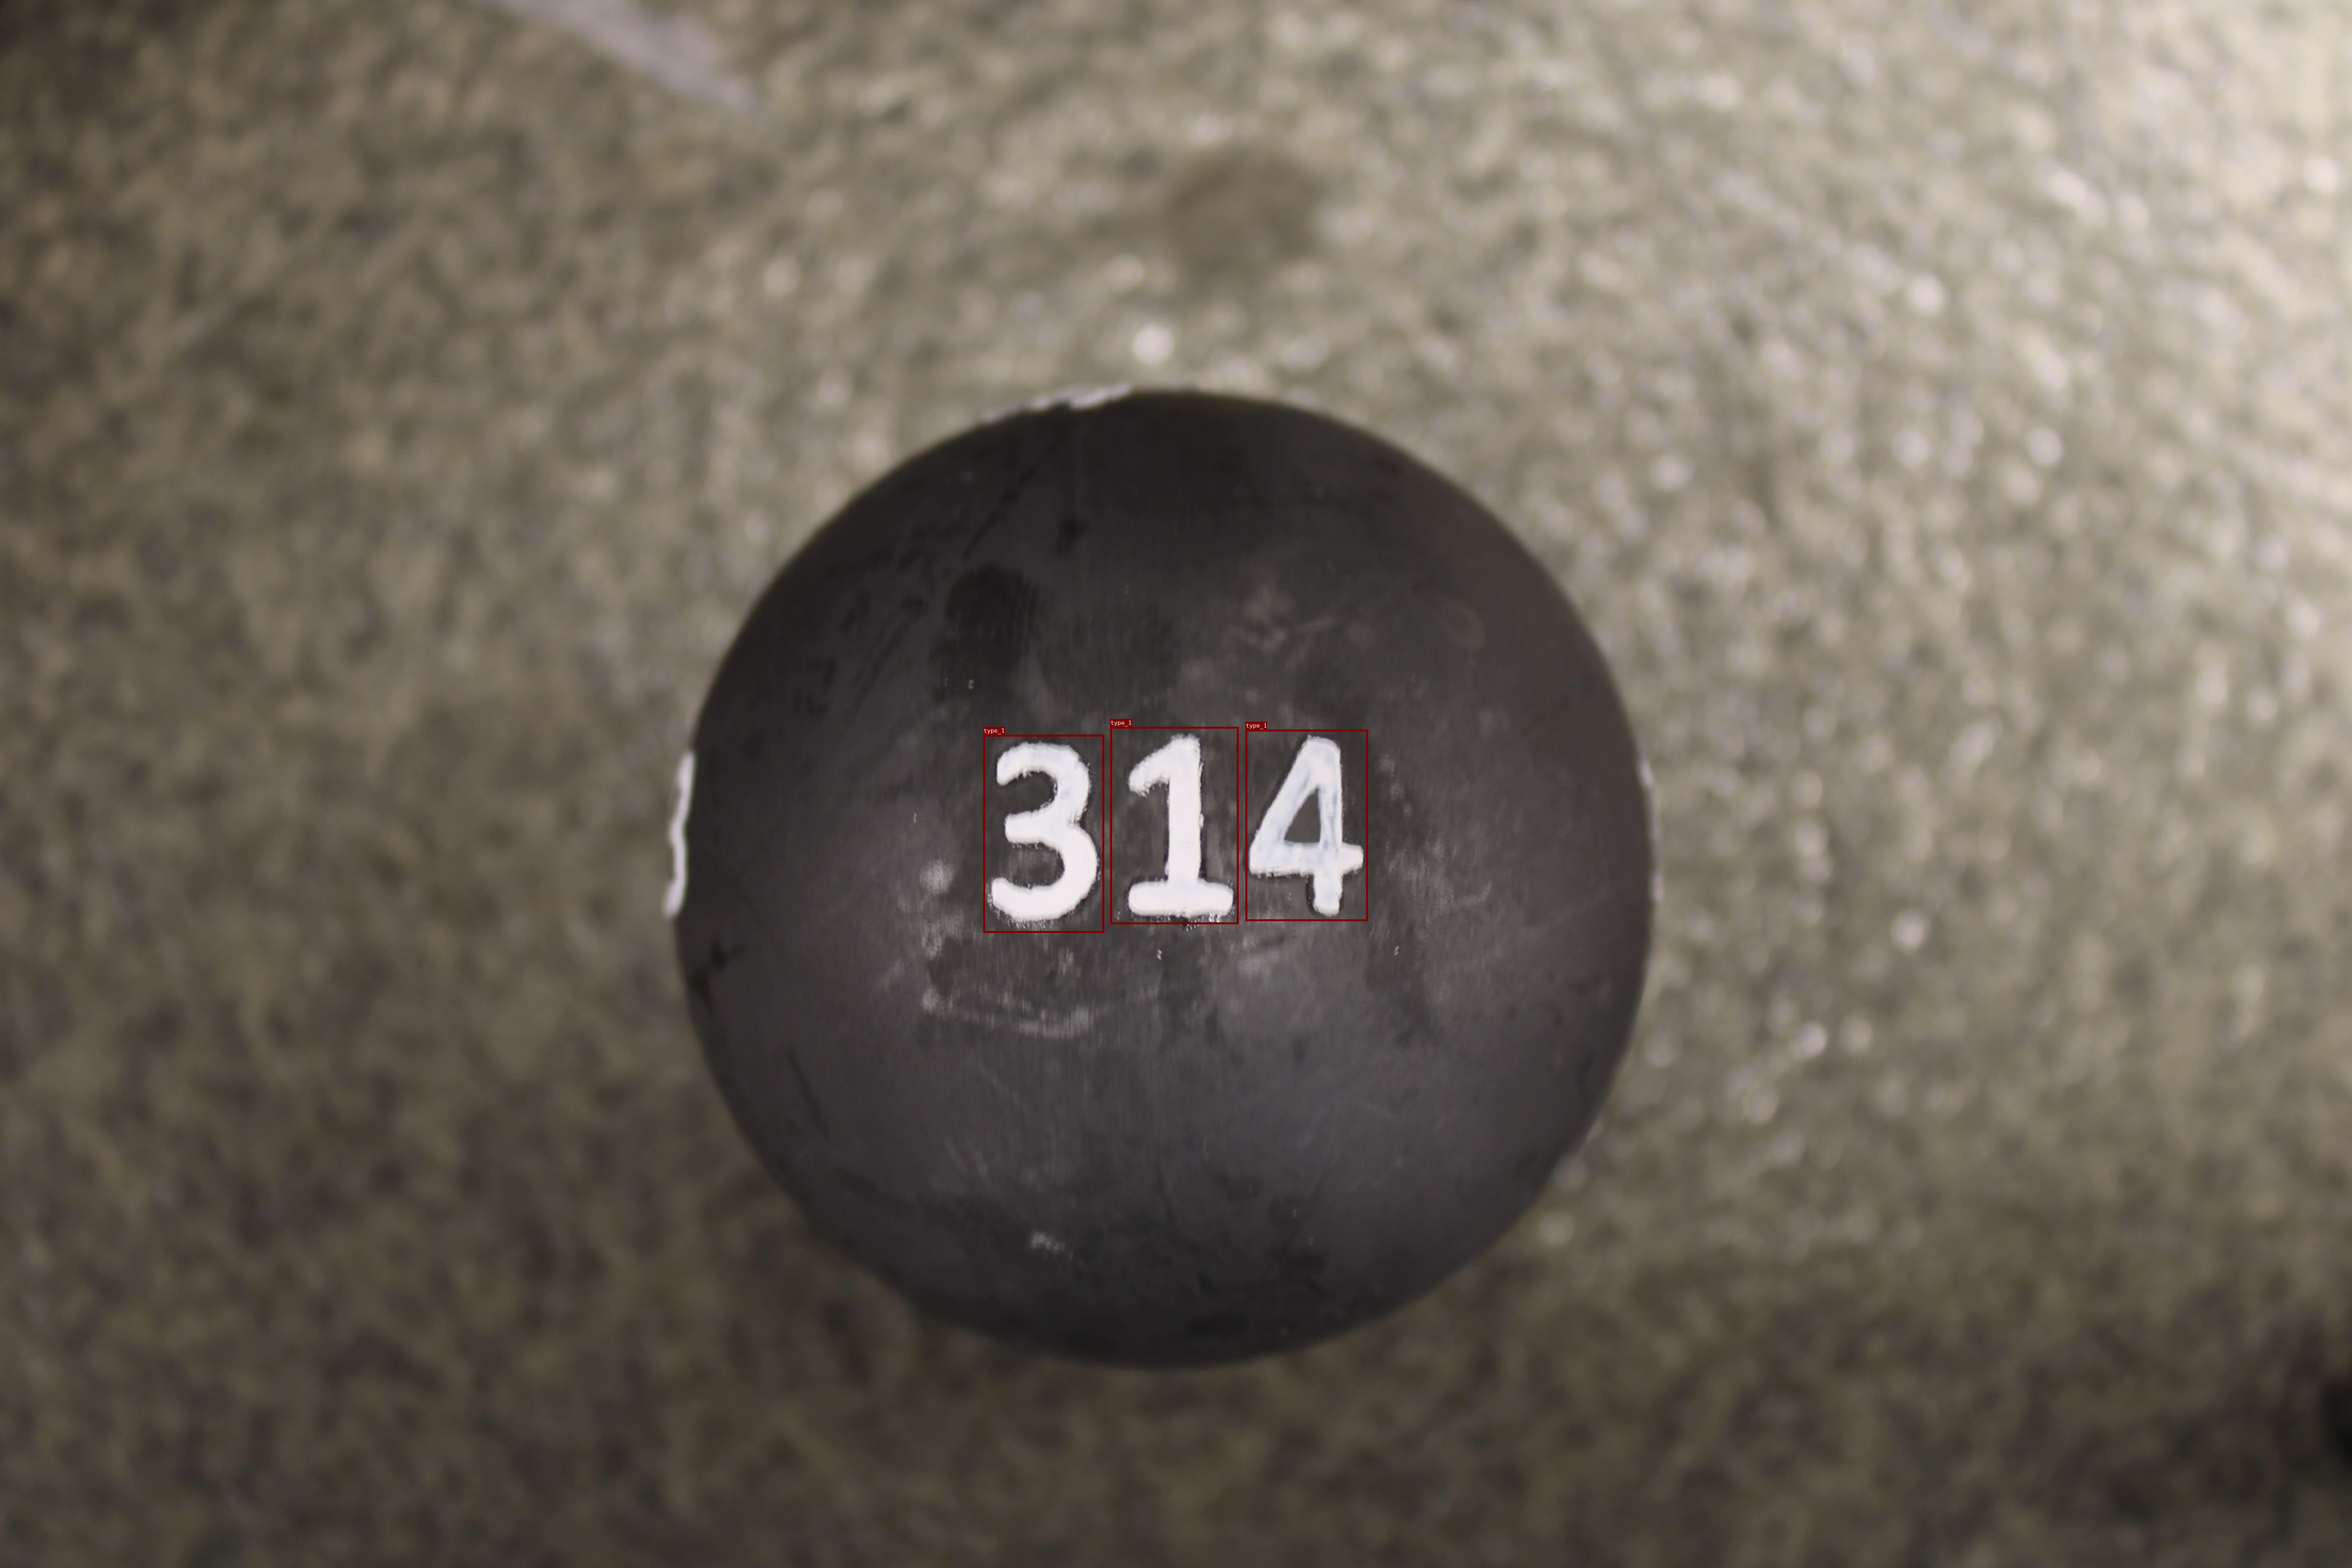type_1: (1110, 726, 1239, 924), (984, 735, 1104, 933), (1246, 730, 1369, 921)
